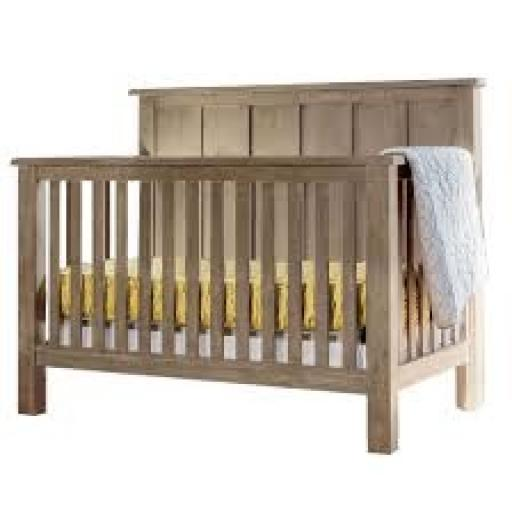crib: (16, 80, 482, 452)
